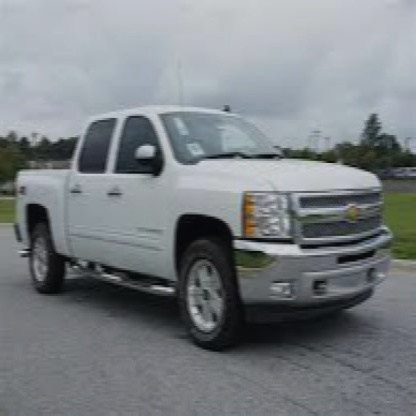Vehicle: (8, 116, 398, 356)
